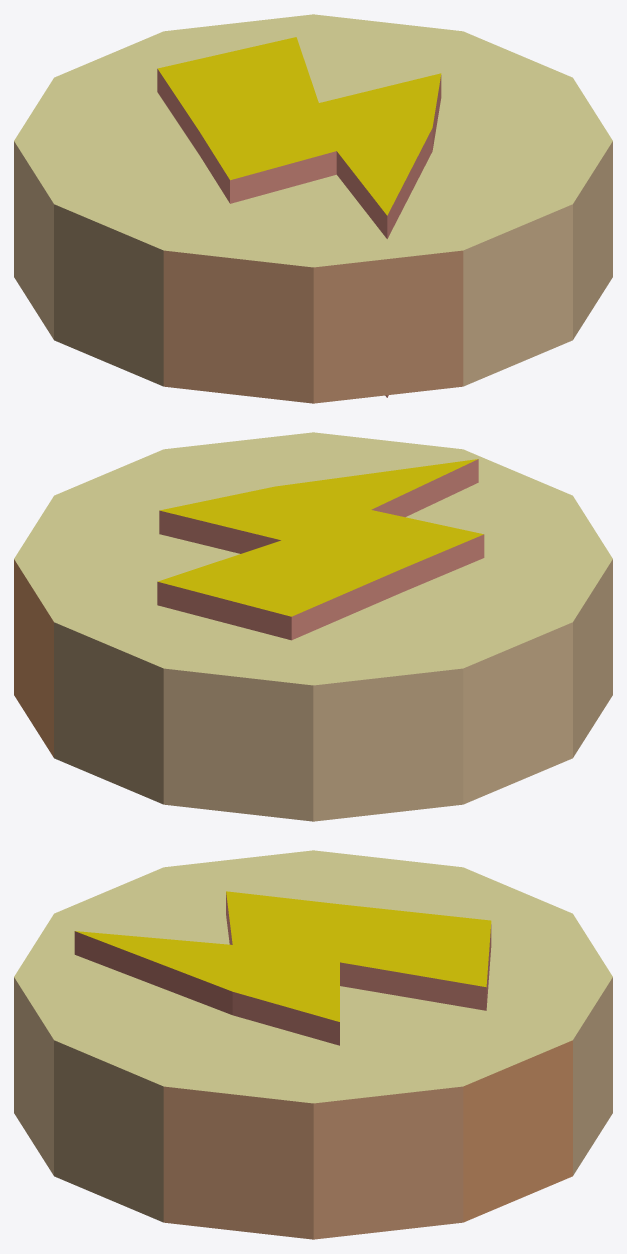
The model's file is Coin.glb.
3 views of the same model, one above another, from view 1: azimuth 30°, elevation 25°; view 2: azimuth 150°, elevation 25°; view 3: azimuth 270°, elevation 25° (orthographic).
Visible parts, largest first — view 1: Coin; view 2: Coin; view 3: Coin.
Part boxes in pixels (x1,y1,x2,y2): Coin: (14, 14, 612, 403); Coin: (14, 432, 612, 821); Coin: (14, 850, 612, 1239).
Size of the model in its own units: 2 by 0.6719 by 2.
